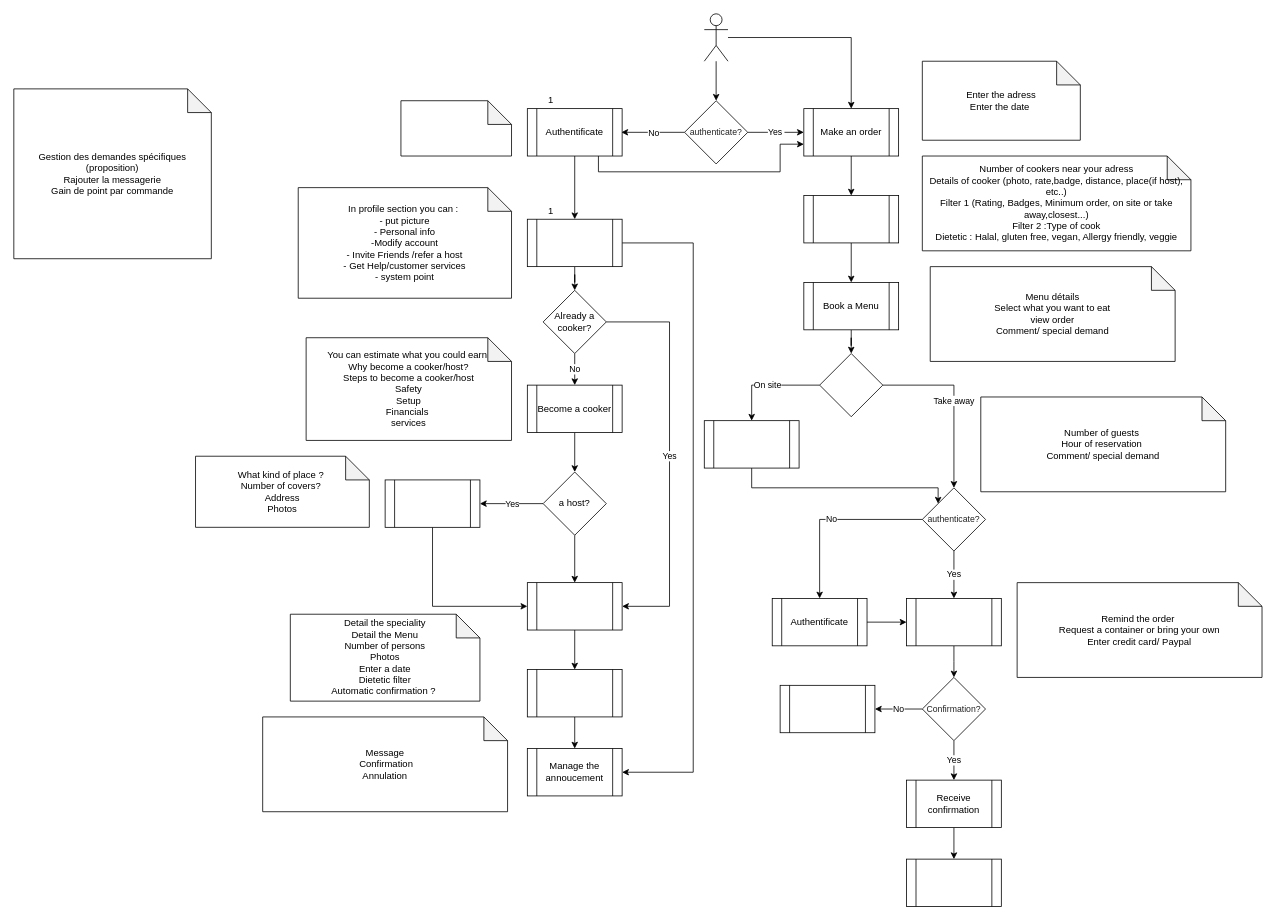
The diagram is 1276 pixels wide and 920 high, and some of its shapes have lost their labels. The shapes that lost their labels are listed below. From the top down, each one's centre as x and y in pixels, then its label:
At pixel 715 37: "Actor".
At pixel 456 128: "You can choose : - Facebook - Google - Web".
At pixel 851 219: "Choose a cooker".
At pixel 574 242: "Select profile".
At pixel 851 385: "On site or take away?".
At pixel 751 444: "Reserve places".
At pixel 432 503: "Detail your location".
At pixel 574 606: "Suggest Menu".
At pixel 953 622: "Pay".
At pixel 574 693: "Publish the announcement".
At pixel 827 709: "refund".
At pixel 953 882: "Message".
